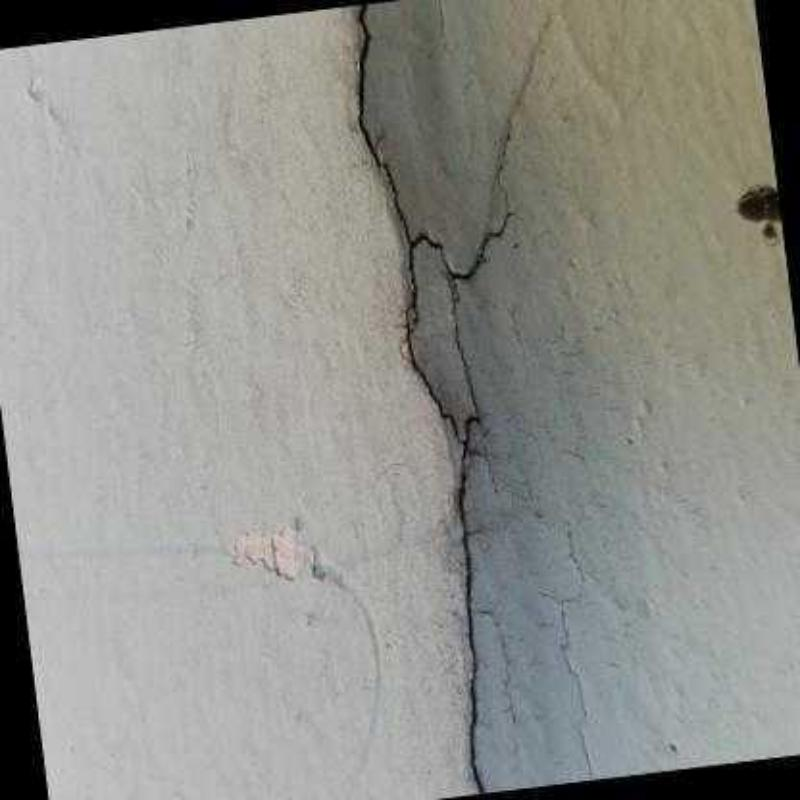crack: (351, 1, 513, 794), (538, 521, 596, 781), (446, 277, 490, 458), (494, 125, 510, 208)
